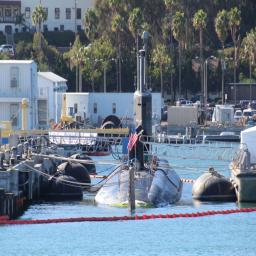submarine: (95, 25, 176, 208)
